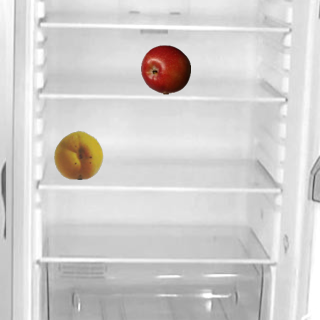Apple Braeburn: (140, 44, 190, 94)
Peach 2: (53, 129, 103, 179)
